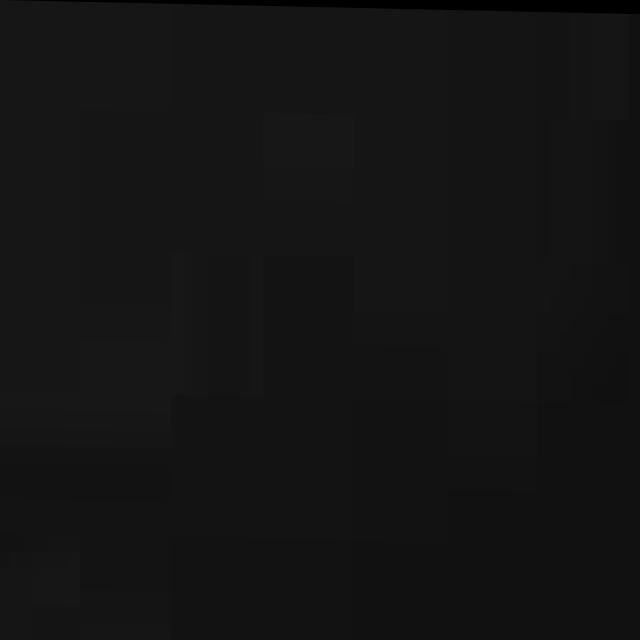fracture: (0, 1, 640, 640)
